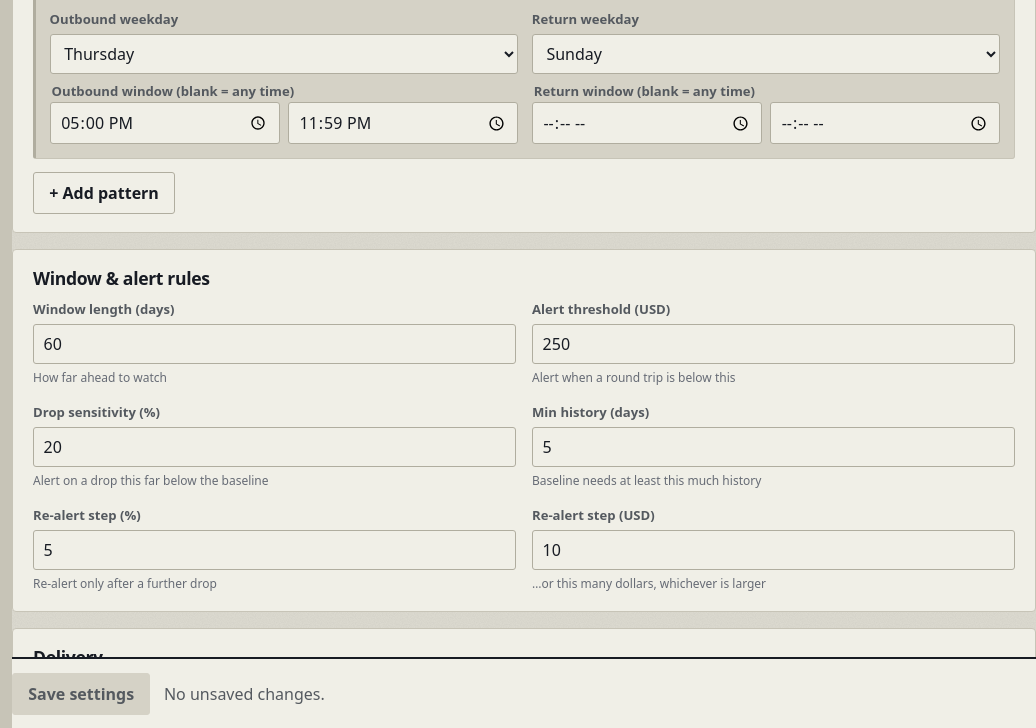
Test: SettingsForm › saves a valid edit with exactly the edited value
The width and height of the screenshot is (1036, 728).
(page scrolled)
Replace the text in the number field labelled "Alert threshold (USD)" with "300" at x=774, y=344, box [532, 324, 1015, 364]
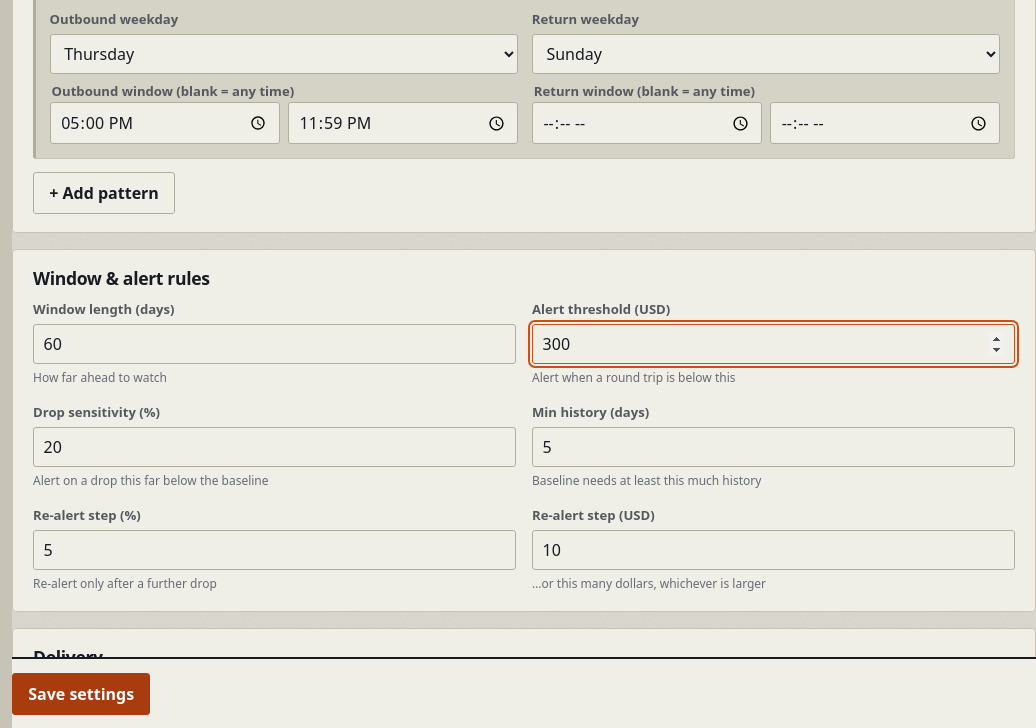
Click the button "Save settings".
click(81, 693)  # box [12, 672, 150, 714]
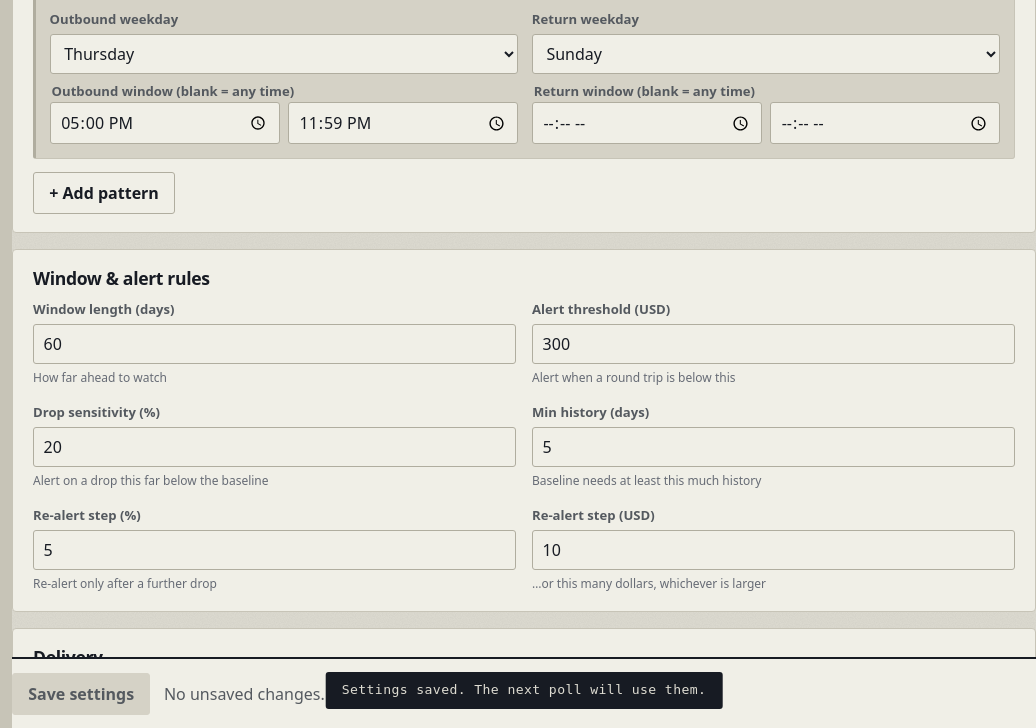
Check: the text "Settings saved. The next poll will use them." is shown, box [326, 672, 722, 709]
